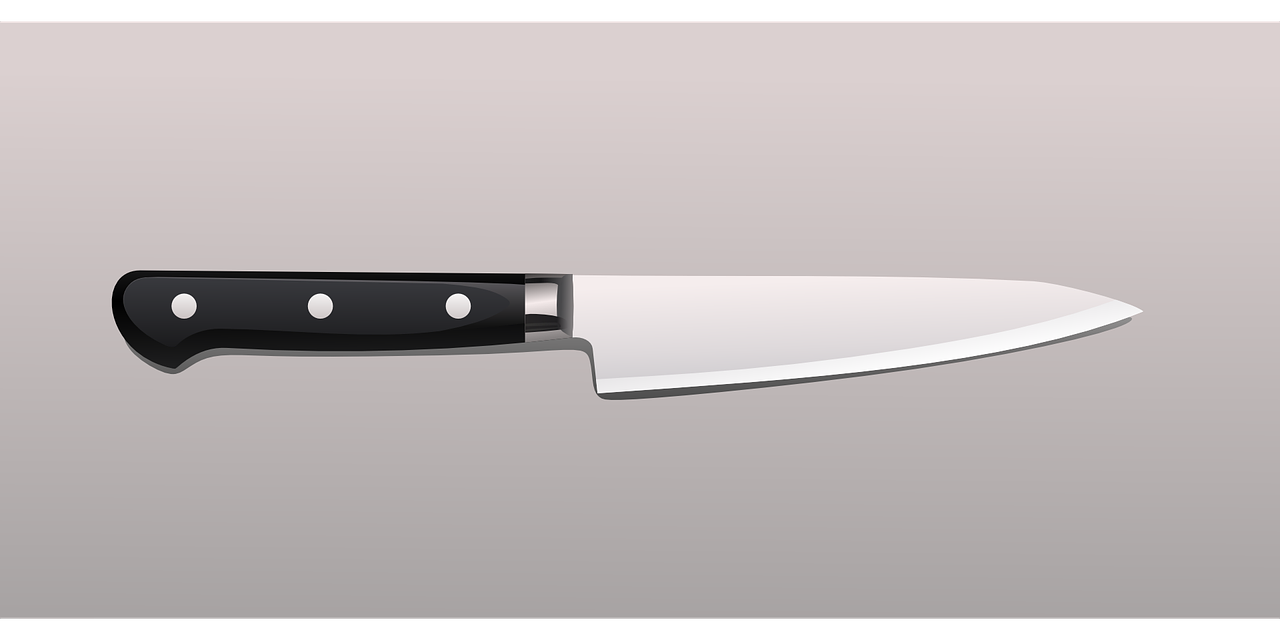knife: (107, 265, 1150, 399)
